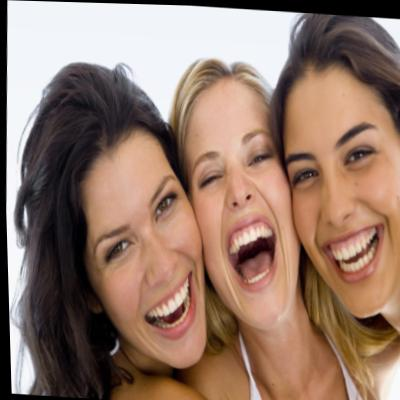happy: (64, 93, 214, 370), (273, 43, 400, 311), (174, 82, 305, 321)
